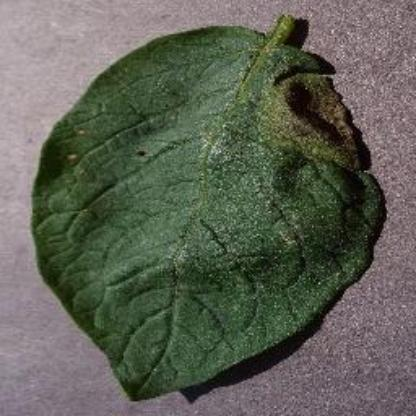Late-Blight: (26, 12, 388, 404)
